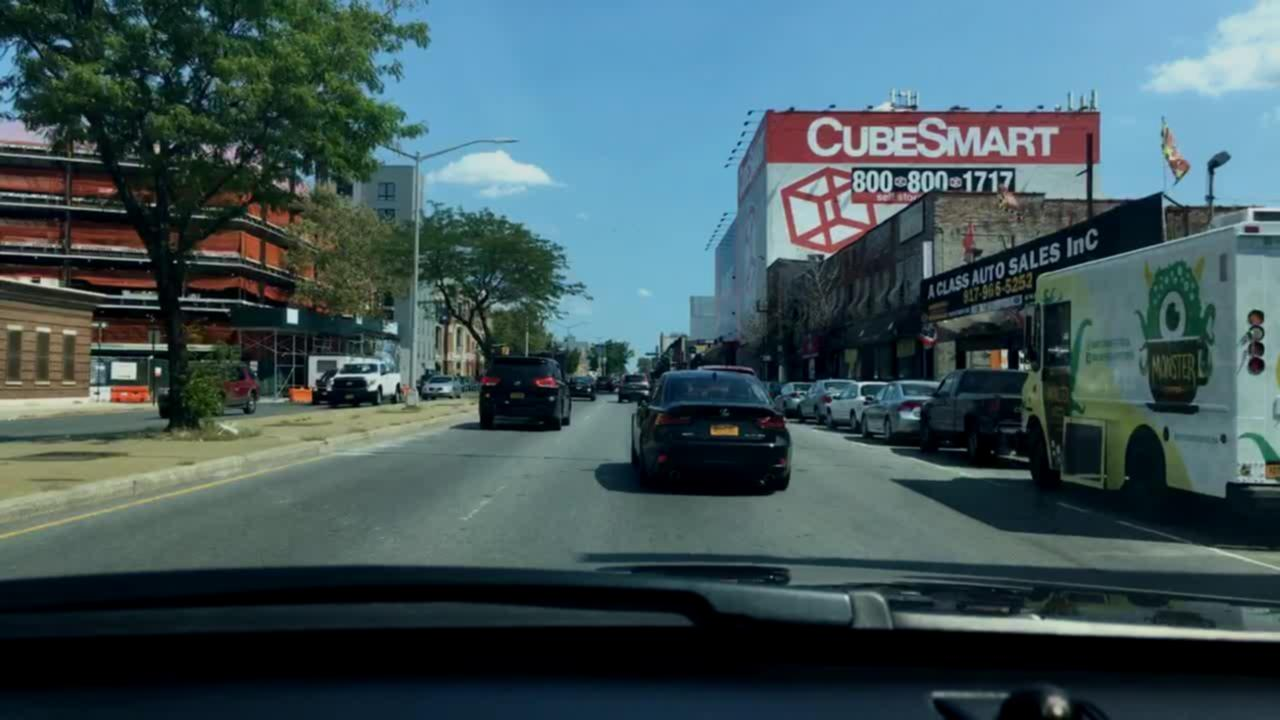lexus: (710, 403, 738, 421)
